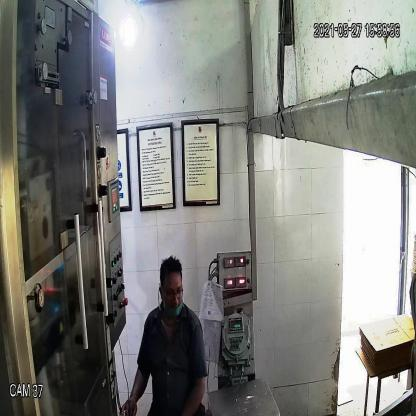goggles: (157, 276, 191, 307)
